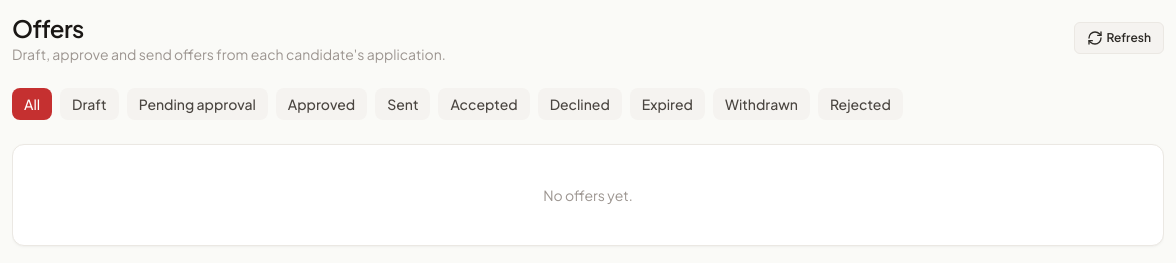
it: OffersPage › filters by status
Expected: the text "No offers yet." is shown, [543, 186, 633, 204]
Click the tab "Accepted": (484, 104) [438, 88, 530, 120]
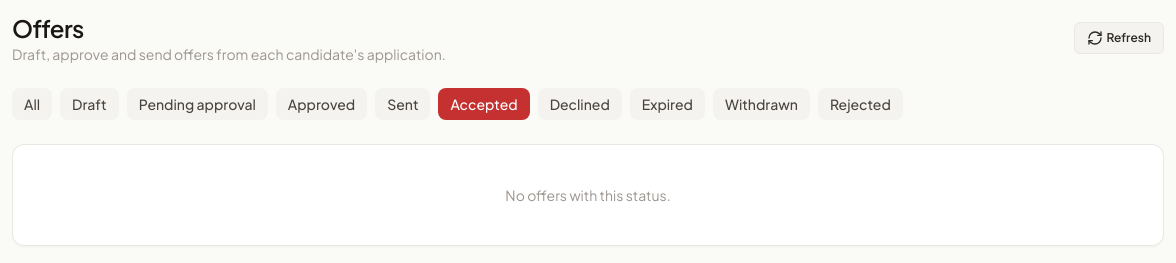
Result: the text "No offers with this status." is shown at [505, 186, 671, 204]
